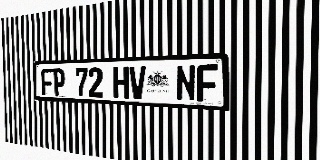2: (88, 67, 103, 98)
7: (75, 67, 88, 97)
F: (196, 64, 218, 102), (41, 68, 53, 96)
H: (113, 66, 129, 99)
N: (176, 65, 196, 101)
P: (53, 68, 65, 96)
V: (129, 66, 146, 99)
